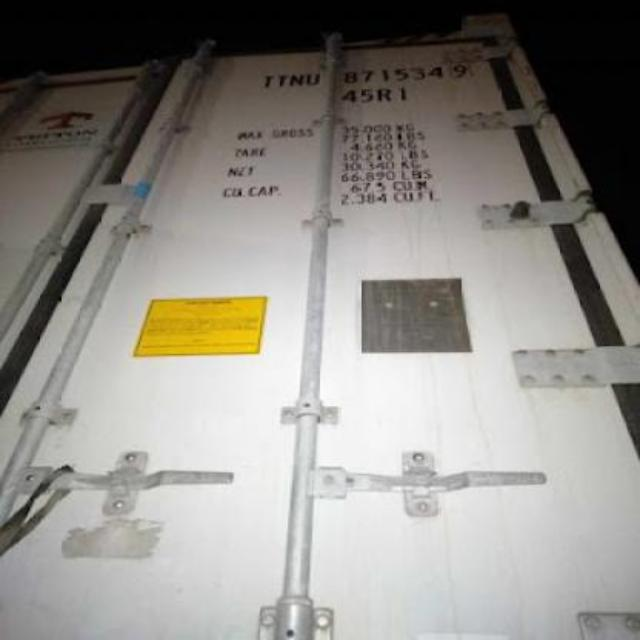1: (378, 65, 392, 85)
3: (410, 66, 426, 80)
4: (426, 64, 442, 80)
5: (396, 67, 409, 83)
7: (360, 69, 376, 85)
8: (342, 70, 358, 82)
9: (452, 64, 466, 80)
N: (288, 70, 304, 88)
T: (276, 74, 290, 88), (260, 75, 274, 88)
U: (304, 70, 320, 88)
